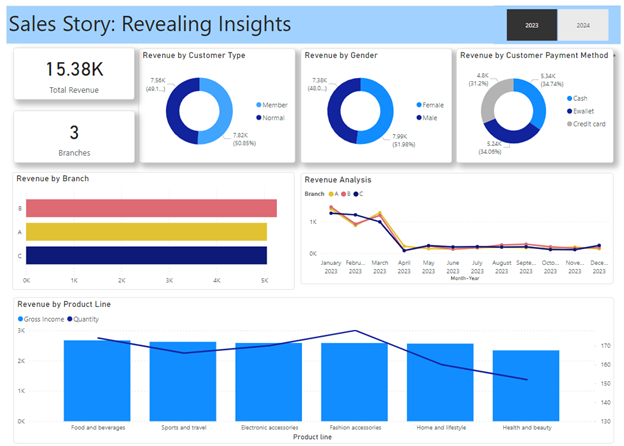

The dashboard page shown, as its layout file describes it:
{"tool":"powerbi","page":{"name":"Page 1","canvas":[1280,900],"ordinal":0},"visuals":[{"type":"donutChart","title":"Revenue by Customer Type","fields":{"Category":["supermarket_sales data.Customer type"],"Y":["Sum(supermarket_sales data.gross income)"]},"box":[307.6,106.6,311.1,227.2],"z":0},{"type":"donutChart","title":"Revenue by Gender","fields":{"Category":["supermarket_sales data.Gender"],"Y":["Sum(supermarket_sales data.gross income)"],"Series":["supermarket_sales data.Gender"]},"box":[629.2,106.6,300.6,227.2],"z":1000},{"type":"barChart","title":"Revenue by Branch","fields":{"Category":["Dim_Branch.Branch"],"Y":["Sum(supermarket_sales data.gross income)"]},"box":[57.1,352.3,560.9,234.2],"z":2000},{"type":"lineStackedColumnComboChart","title":"Revenue by Product Line","fields":{"Category":["supermarket_sales data.Product line"],"Y":["Sum(supermarket_sales data.gross income)"],"Y2":["CountNonNull(supermarket_sales data.Quantity)"]},"box":[57.7,603,1193.8,290.1],"z":3000},{"type":"lineChart","title":"Revenue Analysis","fields":{"Y":["Sum(supermarket_sales data.gross income)"],"Series":["Dim_Branch.Branch"],"Category":["Date.Month-Year"]},"box":[629.8,354.3,622,220.4],"z":4000},{"type":"textbox","box":[43.3,21.7,1221.7,76.7],"z":5000},{"type":"donutChart","title":"Revenue by Customer Payment Method","fields":{"Category":["supermarket_sales data.Payment"],"Y":["Sum(supermarket_sales data.gross income)"]},"box":[938.6,106.6,312.9,227.2],"z":6000},{"type":"cardVisual","fields":{"Data":["Sum(supermarket_sales data.gross income)"]},"box":[57.9,106.4,240.9,103.2],"z":7000},{"type":"cardVisual","fields":{"Data":["Count(supermarket_sales data.Banchid)"]},"box":[57.7,230.7,241.2,103.1],"z":8000},{"type":"slicer","fields":{"Values":["Date.Year"]},"box":[1013.6,21.7,251.9,76.8],"z":8001}]}

Visuals, with their boxes in screenshot pixels (x1, y1, x2, y2), scaled from the page's 1280x900 canvas onto the 624x446 screenshot:
"Revenue by Customer Type" donutChart: Rect(150, 53, 302, 165)
"Revenue by Gender" donutChart: Rect(307, 53, 453, 165)
"Revenue by Branch" barChart: Rect(28, 175, 301, 291)
"Revenue by Product Line" lineStackedColumnComboChart: Rect(28, 299, 610, 443)
"Revenue Analysis" lineChart: Rect(307, 176, 610, 285)
textbox: Rect(21, 11, 617, 49)
"Revenue by Customer Payment Method" donutChart: Rect(458, 53, 610, 165)
cardVisual - Sum(supermarket_sales data.gross income): Rect(28, 53, 146, 104)
cardVisual - Count(supermarket_sales data.Banchid): Rect(28, 114, 146, 165)
slicer - Date.Year: Rect(494, 11, 617, 49)
